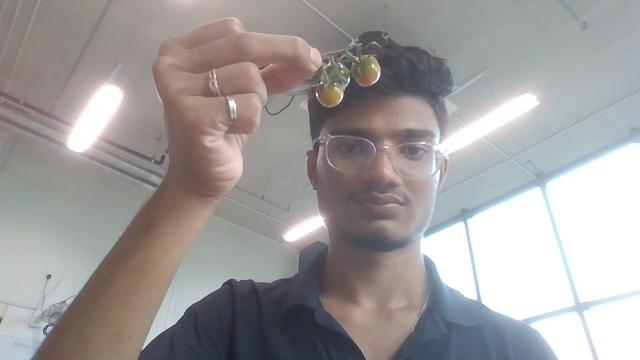Fully Grown: (351, 55, 381, 87), (315, 81, 344, 108)
